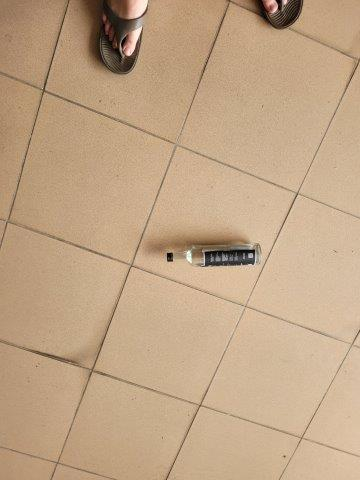botolkaca: (166, 244, 262, 267)
